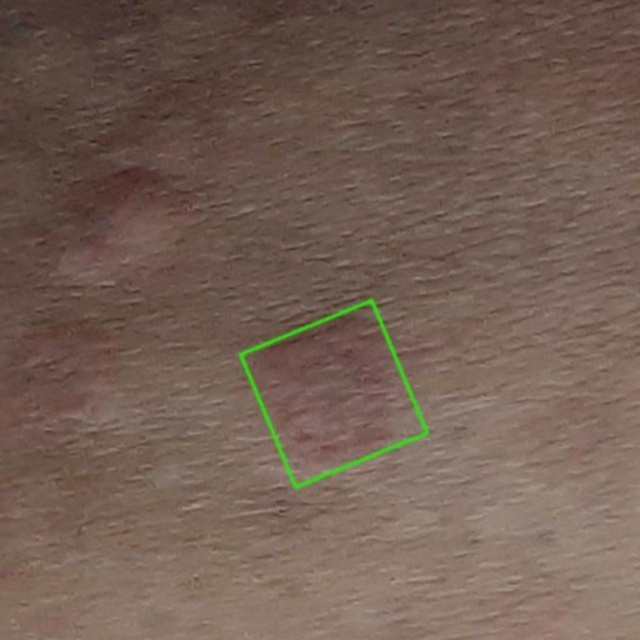Tinea Corporis: (241, 300, 427, 486)
